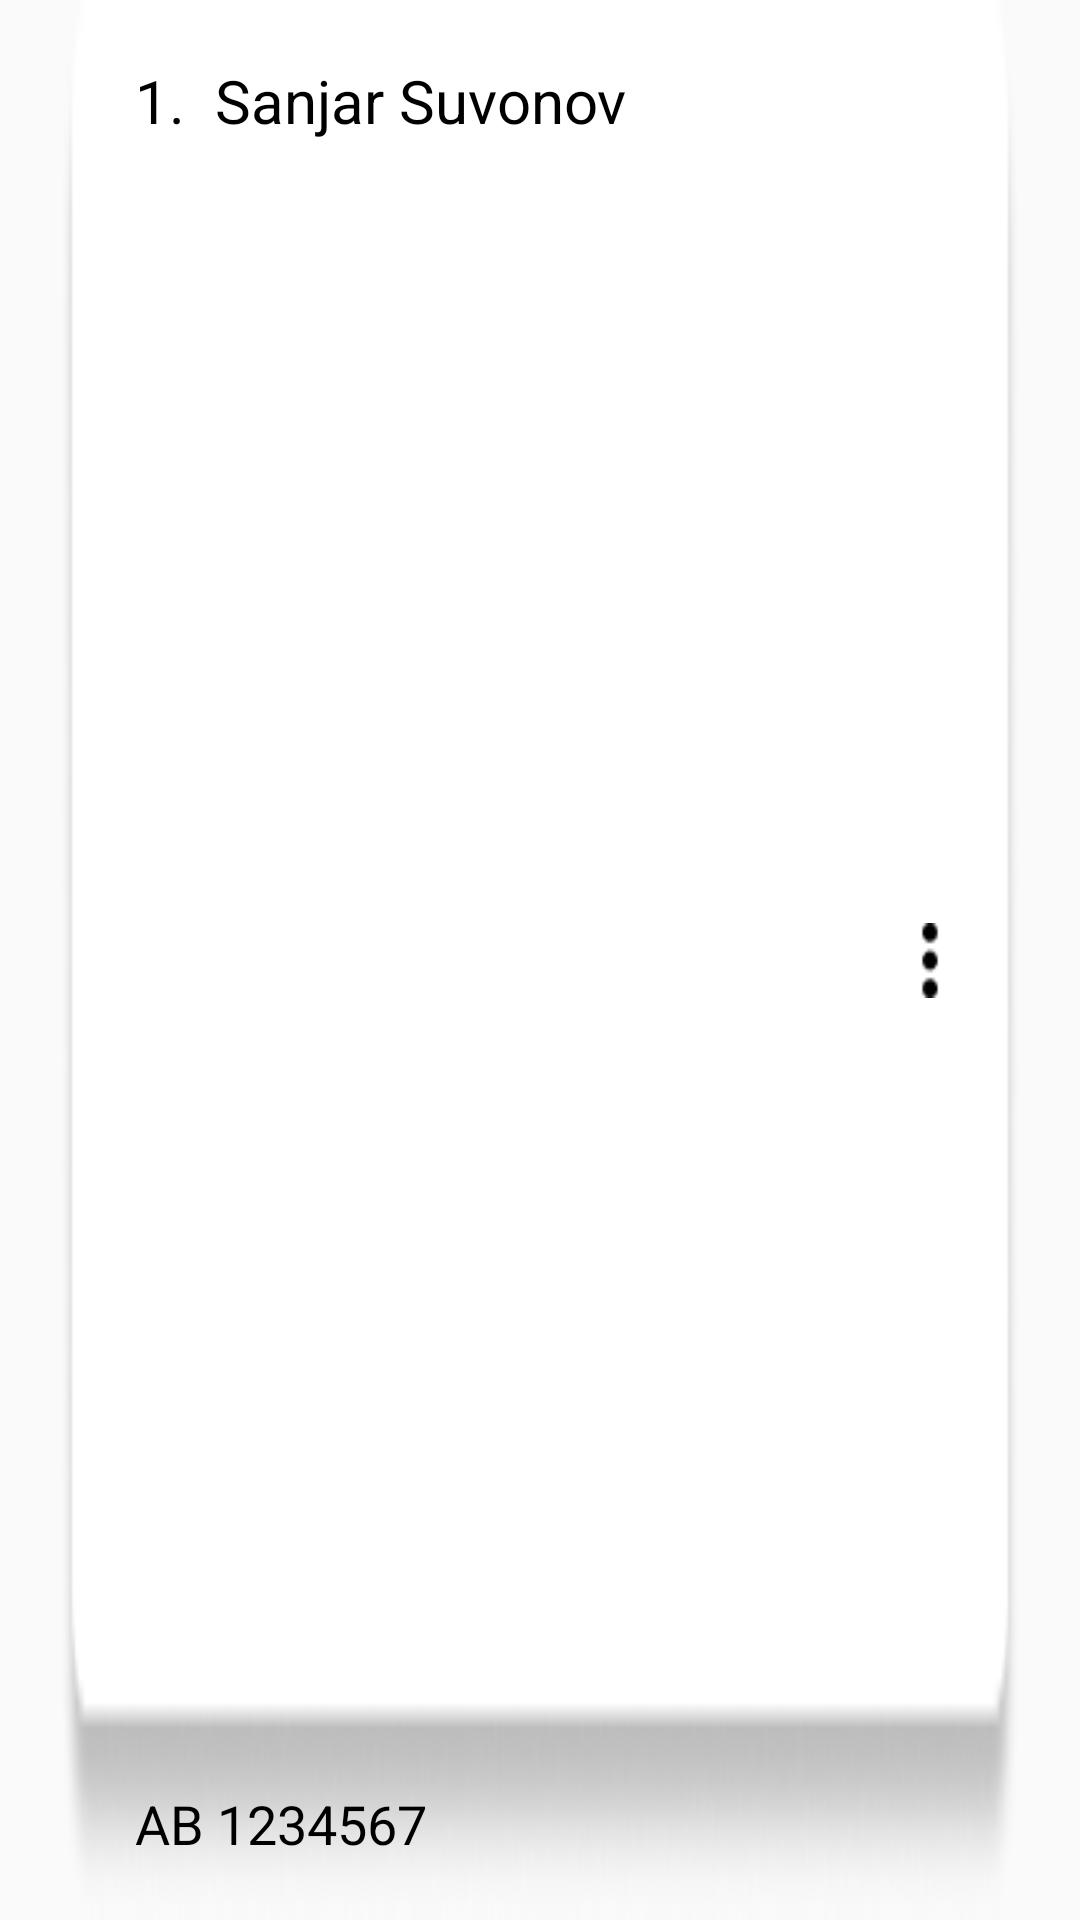

Icon bounding boxes for this 1080px×1920px phone screenshot, format (x1, y1, x2, y2):
more: (921, 923, 939, 998)
